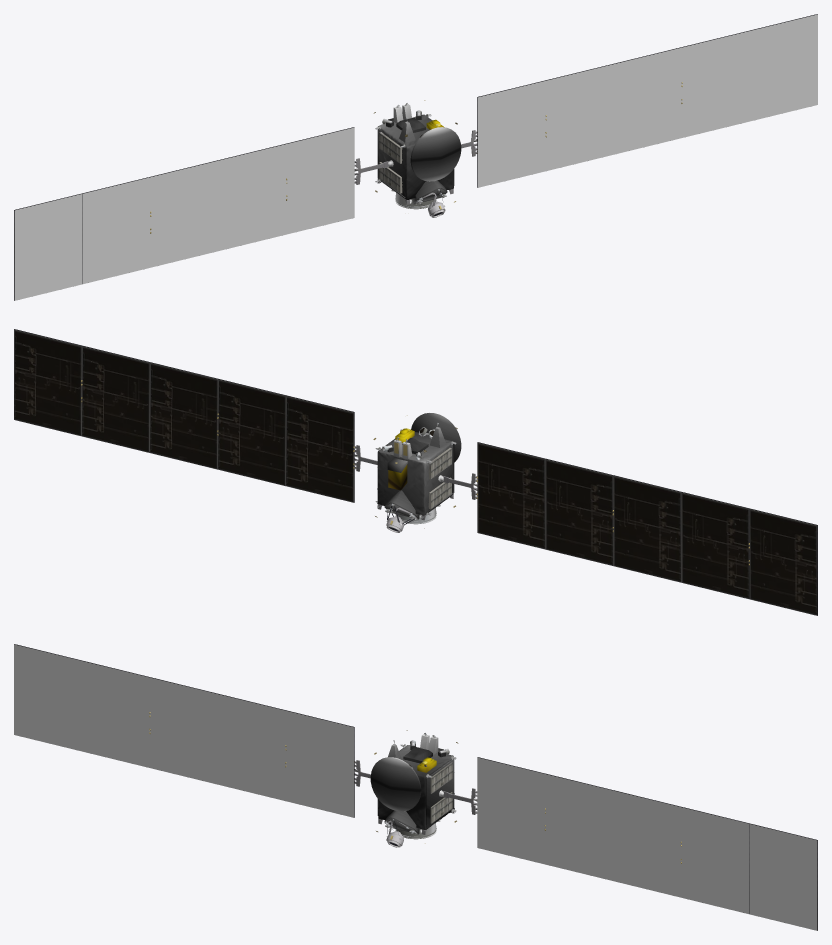
The model's file is surveyor.glb.
3 views of the same model, one above another, from view 1: azimuth 30°, elevation 25°; view 2: azimuth 150°, elevation 25°; view 3: azimuth 330°, elevation 25° (orthographic).
Visible parts, largest first — view 1: tex_01.002, black_krinkle, tex_01; view 2: tex_01, black_krinkle, foil_gold; view 3: tex_01.002, black_krinkle, tex_01.
Part boxes in pixels (x1,y1,x2,y2): tex_01.002: [14, 14, 817, 300]; black_krinkle: [377, 104, 461, 208]; tex_01: [14, 14, 817, 300]; tex_01: [14, 329, 817, 615]; black_krinkle: [377, 413, 461, 523]; foil_gold: [388, 428, 414, 490]; tex_01.002: [14, 644, 817, 930]; black_krinkle: [370, 734, 454, 838]; tex_01: [14, 644, 817, 930].
Size of the model in its own units: 19.7 by 2.2 by 2.14.
Materials: 4 (3 with a texture image).
